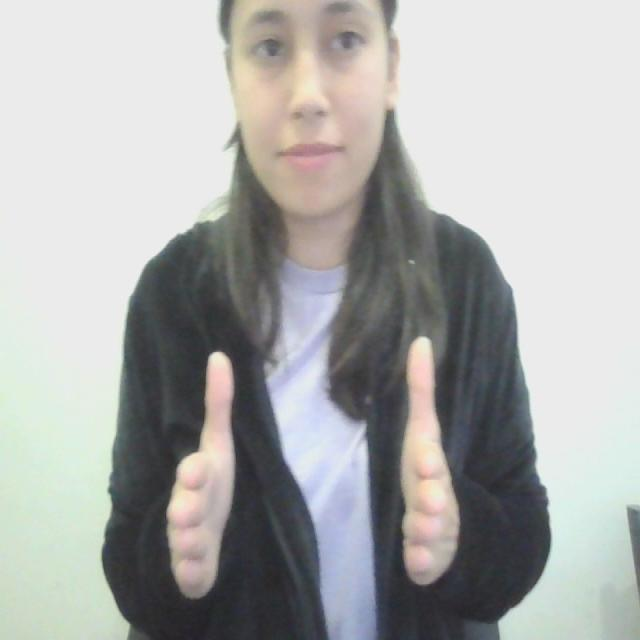Nasil: (162, 334, 462, 600)
